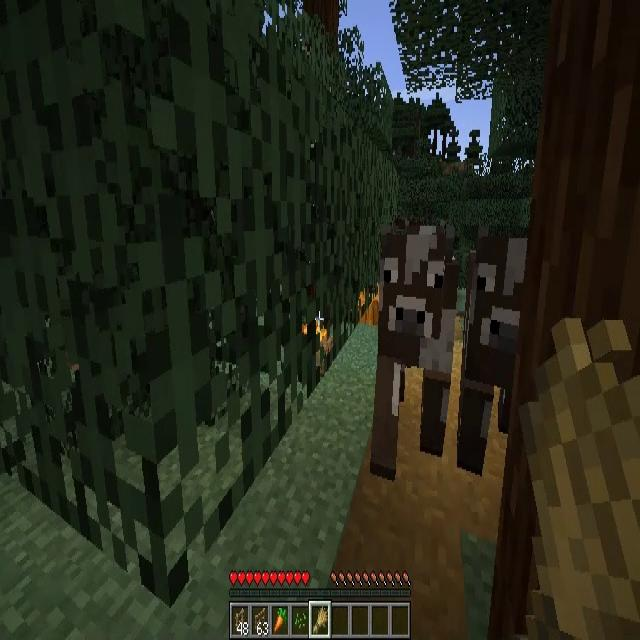cow: (455, 219, 535, 467), (378, 222, 446, 476)
